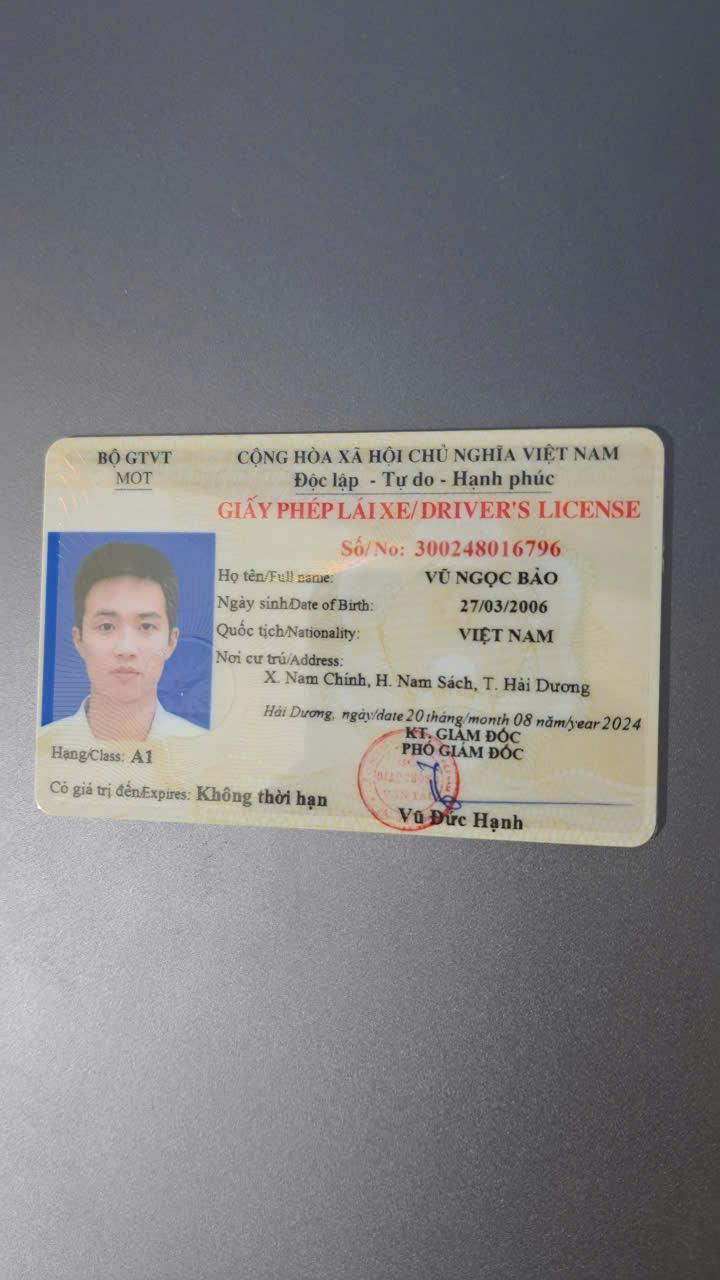gplx: (26, 423, 672, 848)
